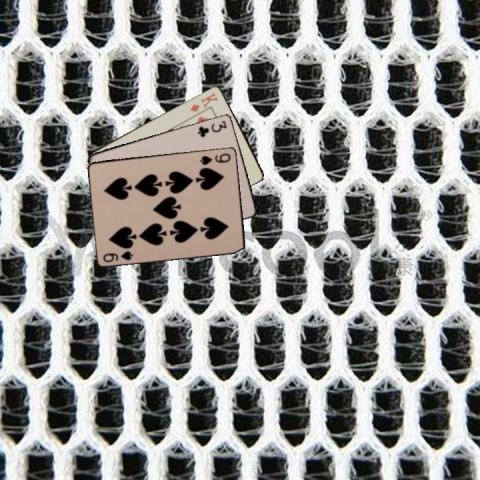3c: (195, 117, 228, 138)
9s: (197, 150, 232, 166), (100, 248, 135, 263)
Kd: (188, 89, 220, 113)
